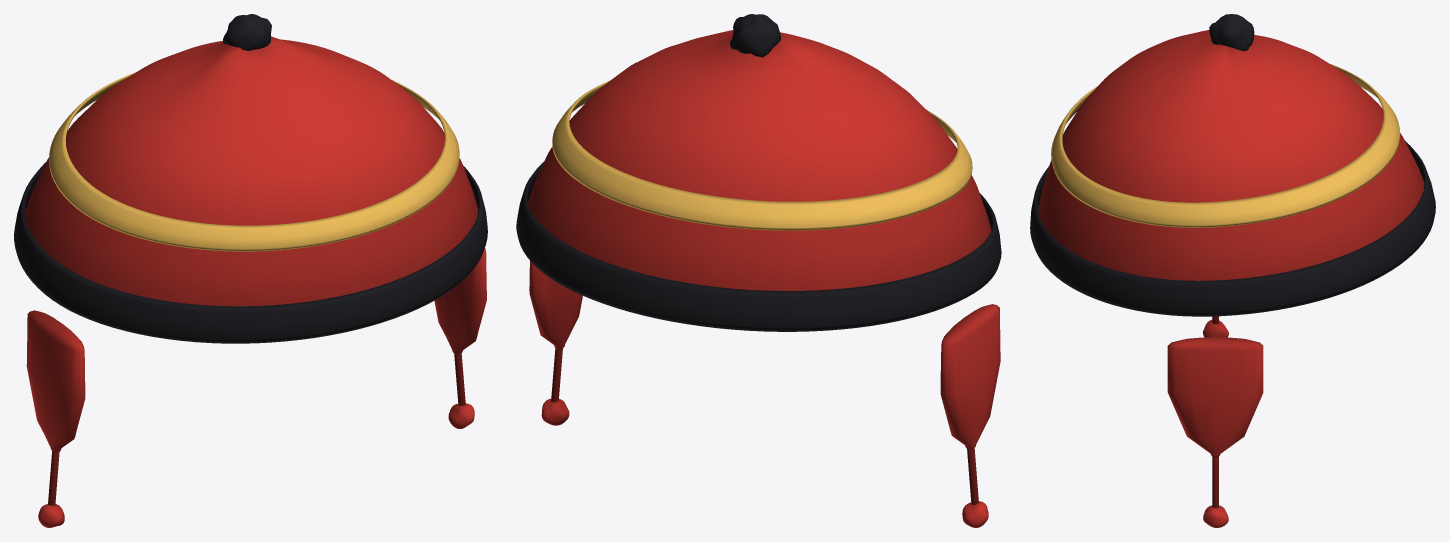
Rendered from hw_chullo.glb.
3 renders of one model, left to right at view 1: azimuth 30°, elevation 25°; view 2: azimuth 150°, elevation 25°; view 3: azimuth 270°, elevation 25°, orthographic. The views are drawn at different scales.
Visible parts, largest first — view 1: hw_chullo, hw_chullo_band, hw_chullo_band2, hw_chullo_flaps, hw_chullo_top; view 2: hw_chullo, hw_chullo_band, hw_chullo_band2, hw_chullo_flaps, hw_chullo_top; view 3: hw_chullo, hw_chullo_band, hw_chullo_band2, hw_chullo_flaps, hw_chullo_top.
Boxes of the visible parts, x1,y1,x2,y2 form: hw_chullo: [25, 36, 478, 306]; hw_chullo_band: [14, 162, 487, 343]; hw_chullo_band2: [49, 72, 459, 251]; hw_chullo_flaps: [26, 248, 486, 527]; hw_chullo_top: [223, 14, 271, 50]; hw_chullo: [528, 30, 991, 290]; hw_chullo_band: [516, 162, 1001, 331]; hw_chullo_band2: [552, 81, 972, 230]; hw_chullo_flaps: [529, 261, 1000, 527]; hw_chullo_top: [730, 14, 780, 57]; hw_chullo: [1038, 30, 1424, 280]; hw_chullo_band: [1030, 141, 1435, 316]; hw_chullo_band2: [1051, 63, 1400, 227]; hw_chullo_flaps: [1167, 316, 1263, 527]; hw_chullo_top: [1209, 14, 1254, 51].
Size of the model in its own units: 0.9434 by 0.9473 by 0.8307.
